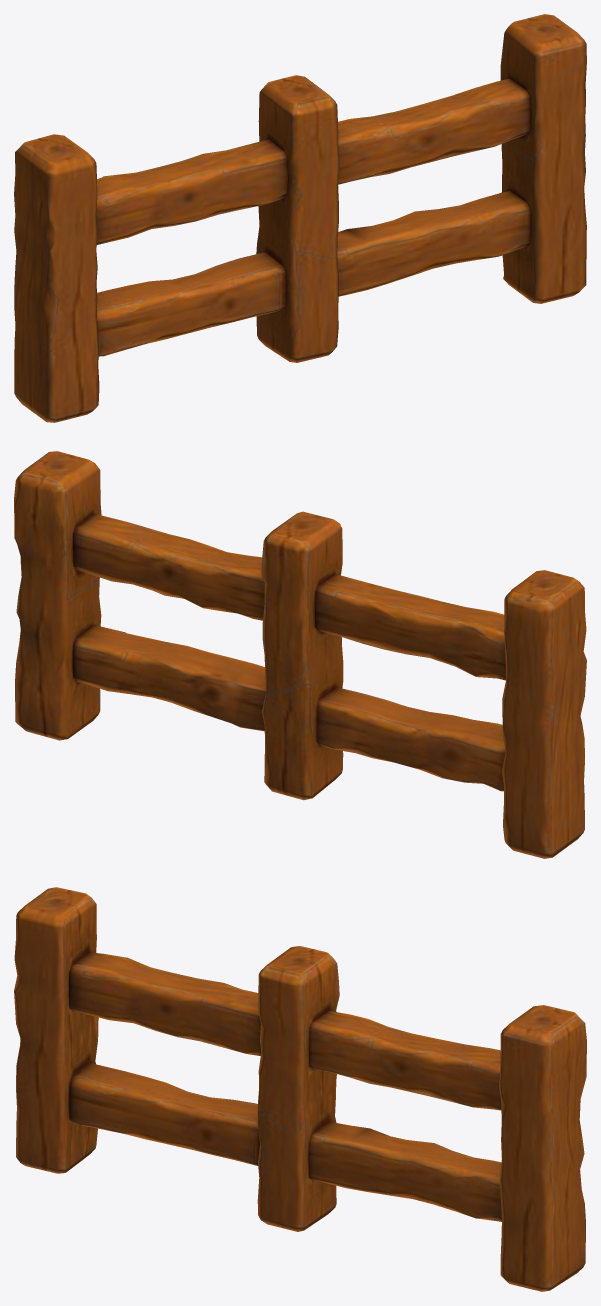
The model's file is fence.glb.
The picture shows the model from 3 angles, top to bottom: view 1: azimuth 30°, elevation 25°; view 2: azimuth 150°, elevation 25°; view 3: azimuth 330°, elevation 25°; orthographic projection.
Visible parts, largest first — view 1: geometry_0; view 2: geometry_0; view 3: geometry_0.
Boxes of the visible parts, <box> form: geometry_0: <box>14,14,586,422</box>; geometry_0: <box>14,451,586,858</box>; geometry_0: <box>14,887,586,1291</box>.
Size of the model in its own units: 0.9565 by 0.4395 by 0.1196.
Materials: 1 (1 with a texture image).
